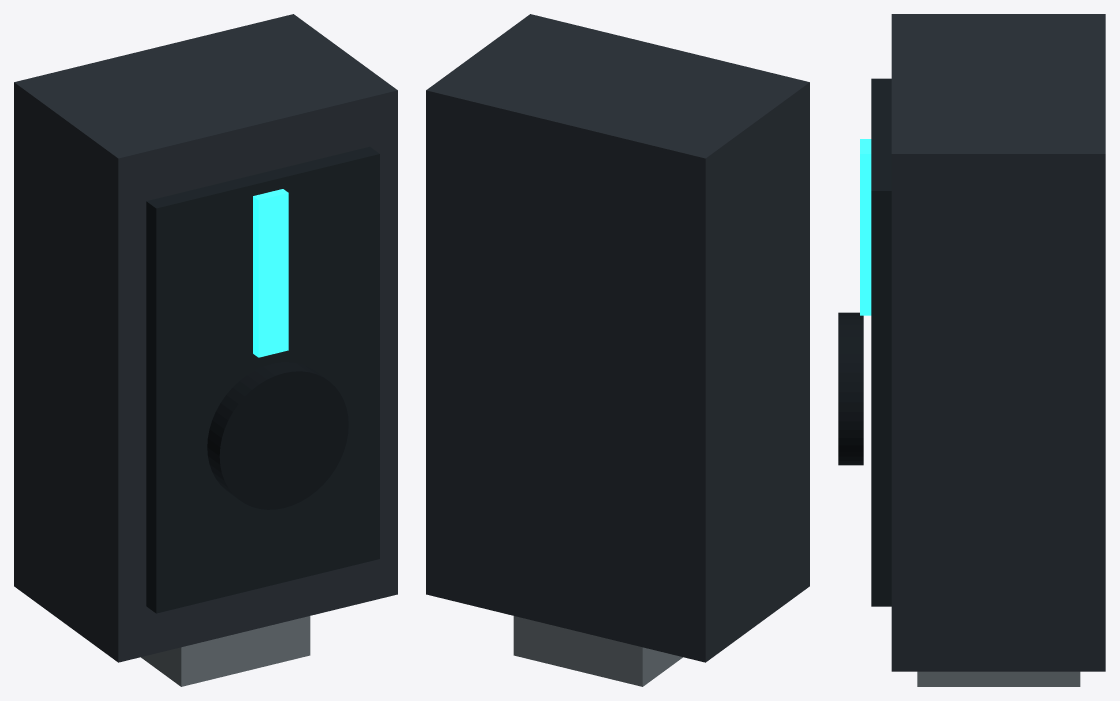
Rendered from laser_module.glb.
3 views of the same model, side by side, from view 1: azimuth 30°, elevation 25°; view 2: azimuth 150°, elevation 25°; view 3: azimuth 270°, elevation 25° (orthographic). The views are drawn at different scales.
Visible parts, largest first — view 1: Cartridge, CartridgeFace, RoleLens, LockTab, CapacityStripe; view 2: Cartridge, LockTab; view 3: Cartridge, CartridgeFace, RoleLens, LockTab, CapacityStripe.
Boxes of the visible parts, x1=… form: Cartridge: x1=14, y1=14, x2=397, y2=662; CartridgeFace: x1=146, y1=146, x2=379, y2=613; RoleLens: x1=207, y1=362, x2=348, y2=509; LockTab: x1=141, y1=616, x2=310, y2=686; CapacityStripe: x1=253, y1=189, x2=288, y2=357; Cartridge: x1=426, y1=14, x2=809, y2=662; LockTab: x1=513, y1=616, x2=682, y2=686; Cartridge: x1=891, y1=14, x2=1105, y2=671; CartridgeFace: x1=871, y1=78, x2=891, y2=606; RoleLens: x1=838, y1=312, x2=863, y2=465; LockTab: x1=917, y1=671, x2=1080, y2=686; CapacityStripe: x1=860, y1=139, x2=871, y2=315.
Size of the model in its own units: 0.65 by 1.24 by 0.525.
